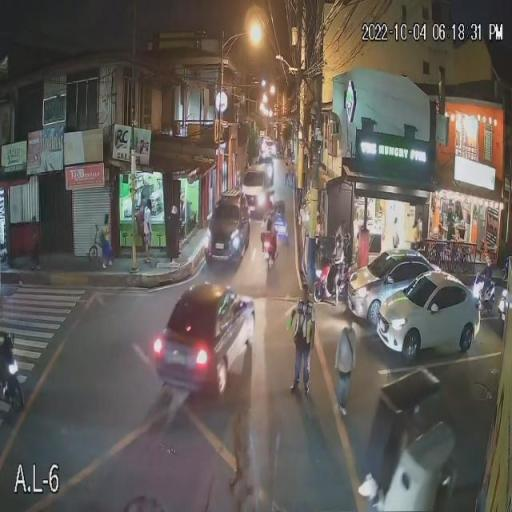helmet: (480, 262, 489, 272), (265, 208, 273, 217), (274, 203, 282, 212)
motorcycle: (0, 331, 26, 413), (313, 252, 348, 306), (472, 262, 498, 318), (260, 223, 278, 270), (272, 208, 290, 244)
rider: (318, 237, 342, 281), (472, 255, 494, 297), (0, 330, 16, 375), (492, 262, 509, 301), (260, 219, 278, 254), (272, 202, 287, 229)
